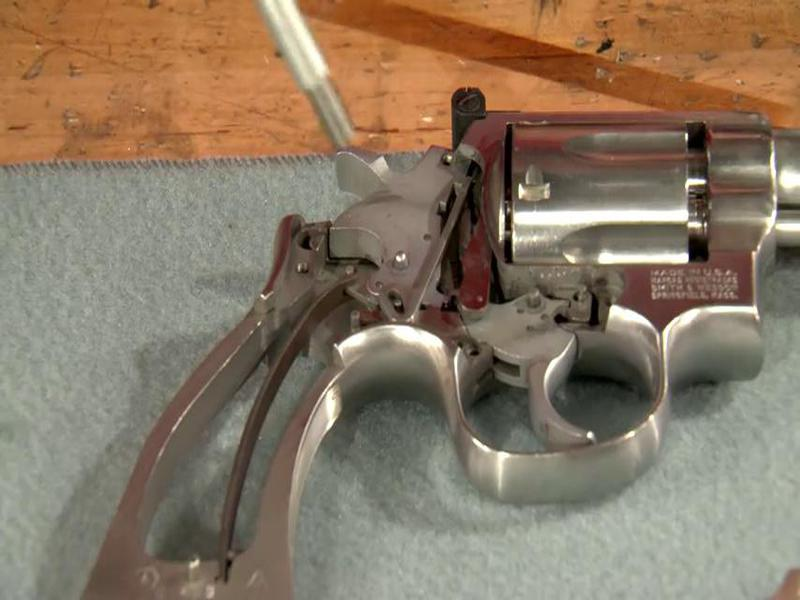Revolver: (60, 75, 800, 577)
